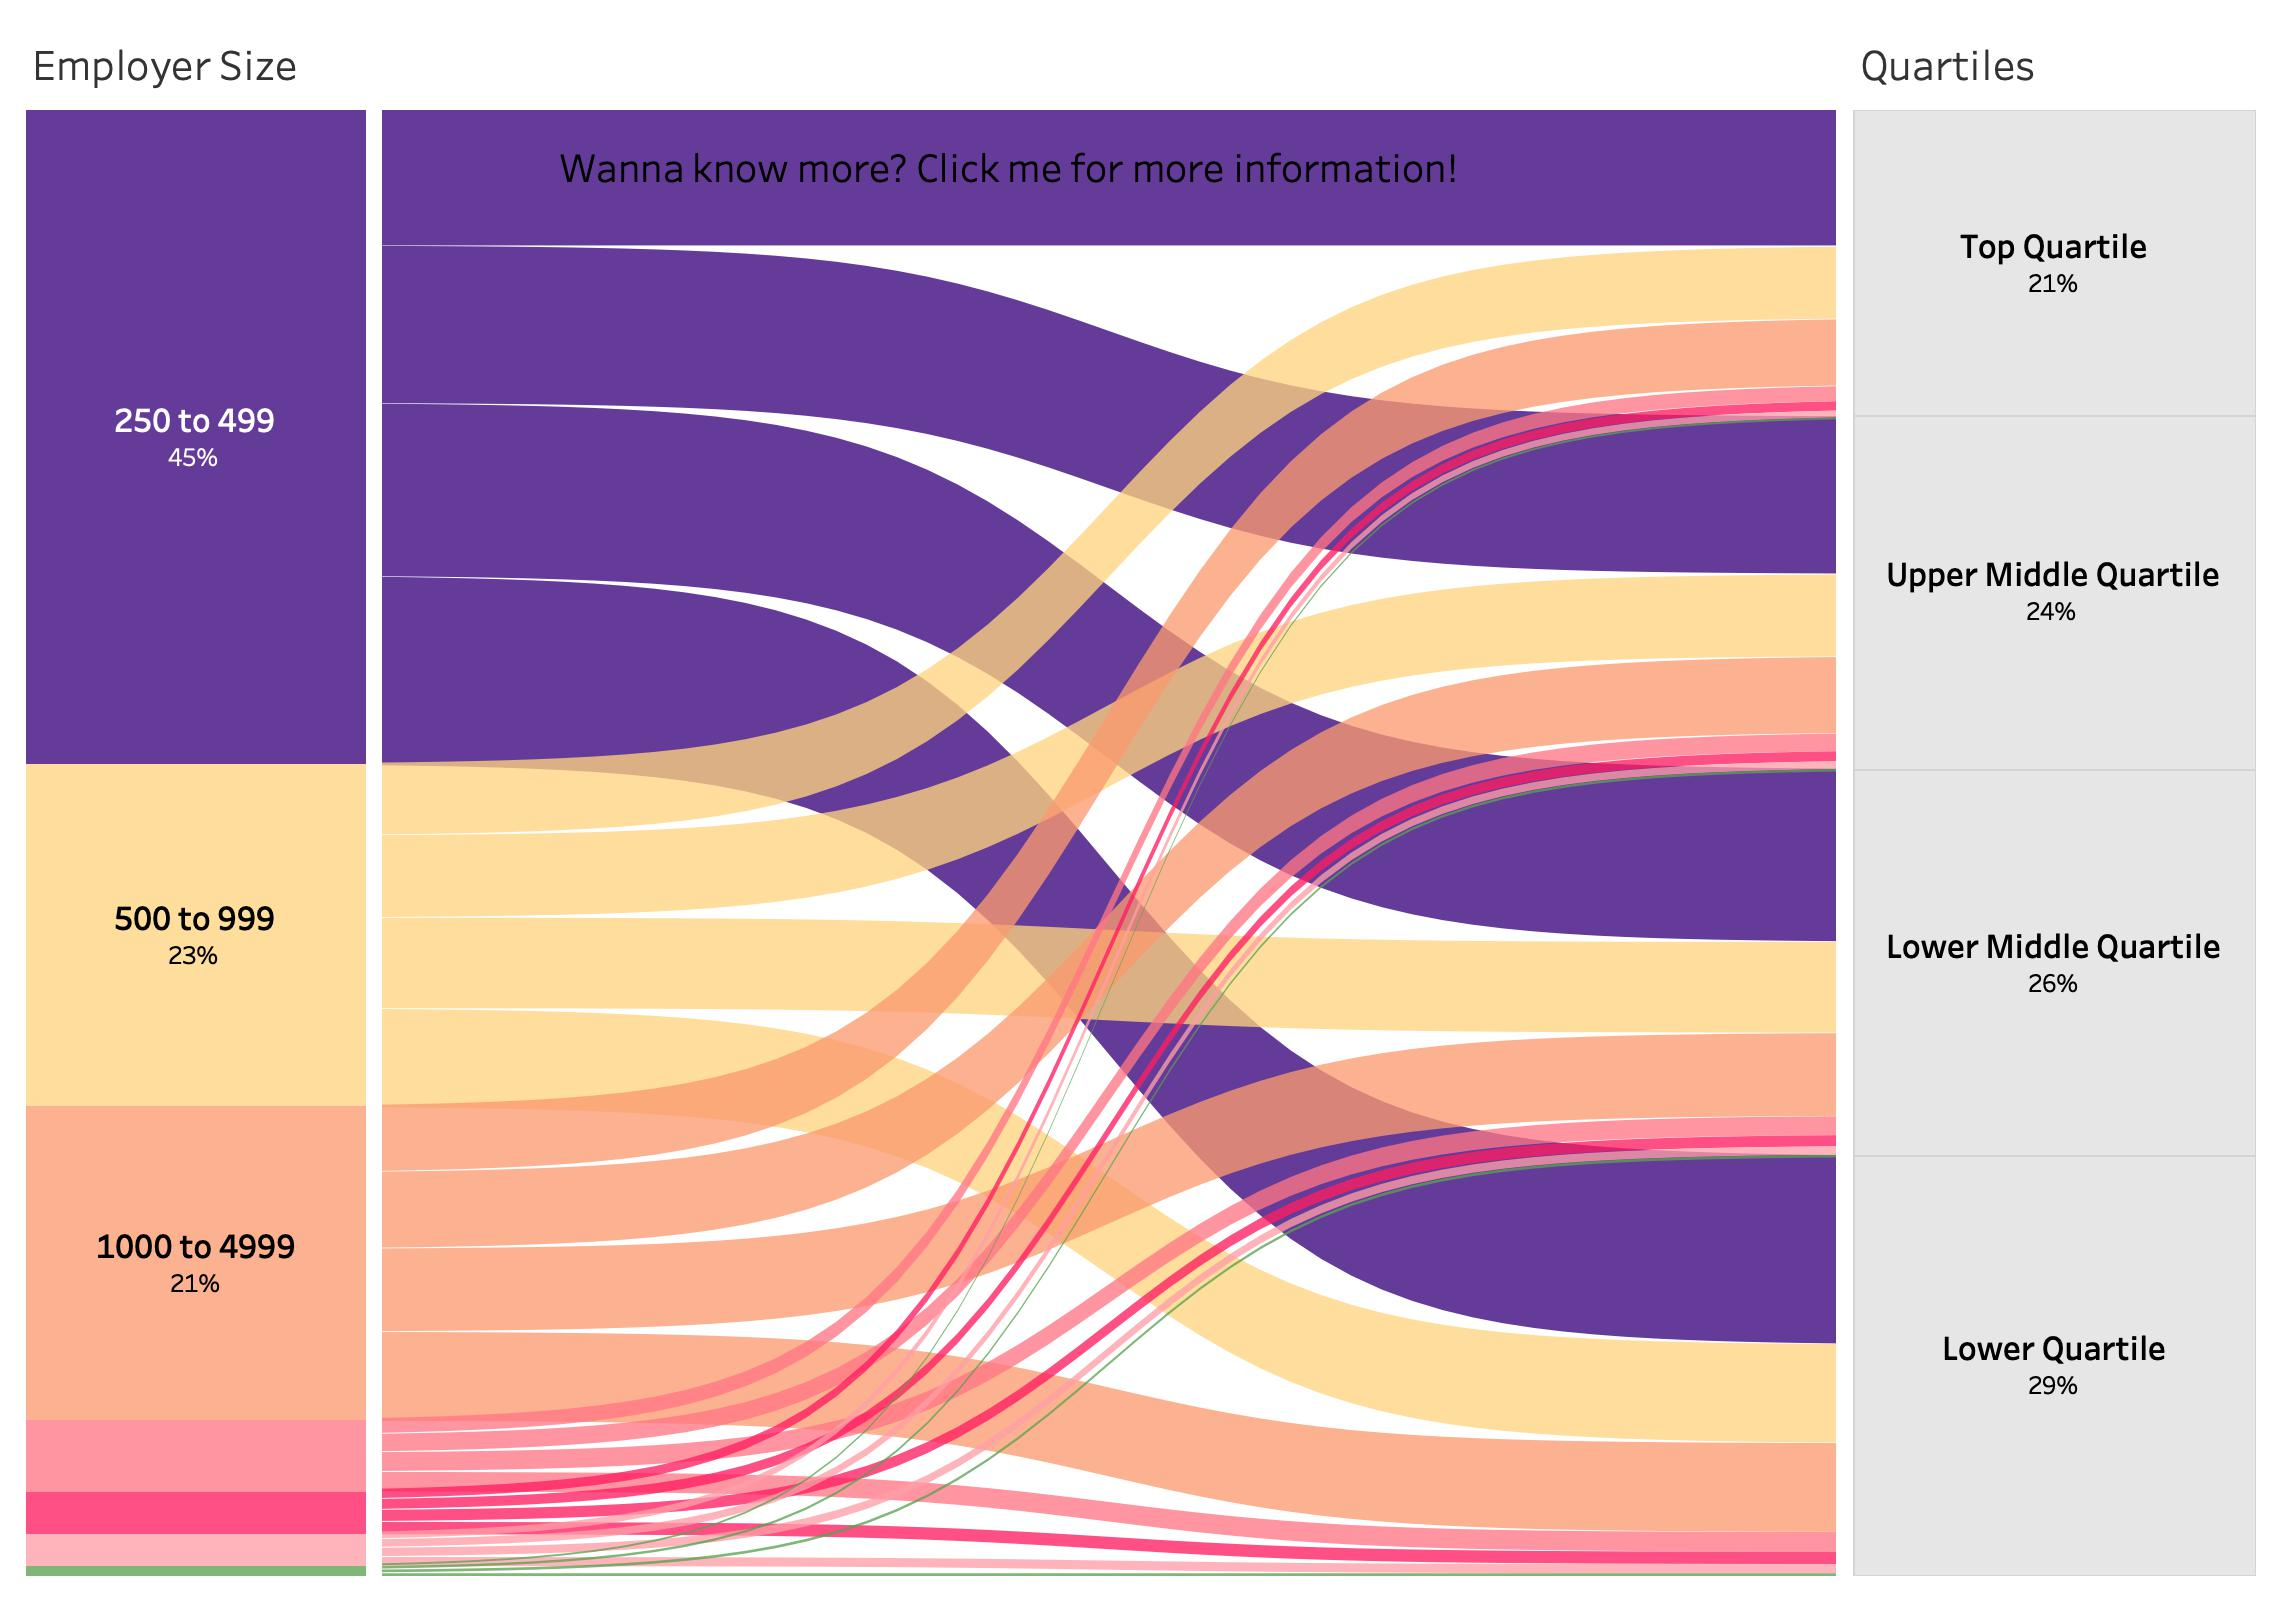

This screenshot's page, from the dashboard's own definition file:
{"tool":"tableau","page":{"name":"Employer Size x Quartiles","canvas":[1140,800],"ordinal":0},"visuals":[{"type":"worksheet","title":"Dimension 1 Labels","mark":"Automatic","rows":["Calculation_6792272703492800520"],"box":[8,8,179,784]},{"type":"worksheet","title":"Female - Sankey","mark":"Polygon","box":[187,8,734.8,784]},{"type":"worksheet","title":"Dimension 2 Labels","mark":"Automatic","rows":["Calculation_6792272703492800520"],"box":[921.8,8,210.2,784]},{"type":"text","box":[277,61,465,45]}]}

Visuals, with their boxes in screenshot pixels (x1, y1, x2, y2), scaled from the page's 1140x800 canvas onto the 2280x1600 screenshot:
"Dimension 1 Labels" worksheet: pyautogui.locateOnScreen(16, 16, 374, 1584)
"Female - Sankey" worksheet (Polygon marks): pyautogui.locateOnScreen(374, 16, 1844, 1584)
"Dimension 2 Labels" worksheet: pyautogui.locateOnScreen(1844, 16, 2264, 1584)
text: pyautogui.locateOnScreen(554, 122, 1484, 212)
